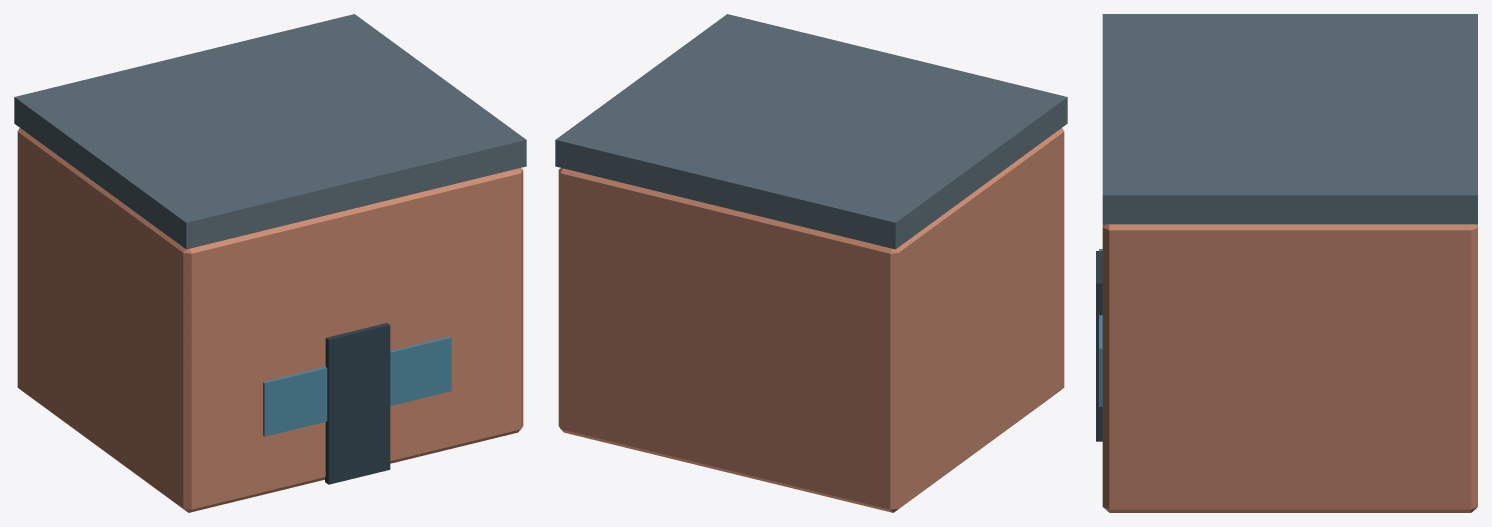
The model's file is residence-low.glb.
3 renders of one model, left to right at view 1: azimuth 30°, elevation 25°; view 2: azimuth 150°, elevation 25°; view 3: azimuth 270°, elevation 25°, orthographic. The views are drawn at different scales.
Visible parts, largest first — view 1: Residence_Body, Roof, Door, Window_F_0_0; view 2: Residence_Body, Roof; view 3: Residence_Body, Roof, Door.
Boxes of the visible parts, box(x1,y1,x2,y2) form: Residence_Body: box(17, 128, 523, 512); Roof: box(14, 14, 526, 249); Door: box(325, 323, 390, 484); Window_F_0_0: box(263, 336, 451, 436); Residence_Body: box(558, 128, 1064, 512); Roof: box(555, 14, 1067, 249); Residence_Body: box(1102, 224, 1477, 512); Roof: box(1102, 14, 1477, 224); Door: box(1096, 251, 1102, 441).
Size of the model in its own units: 3.2 by 2.64 by 2.85.
